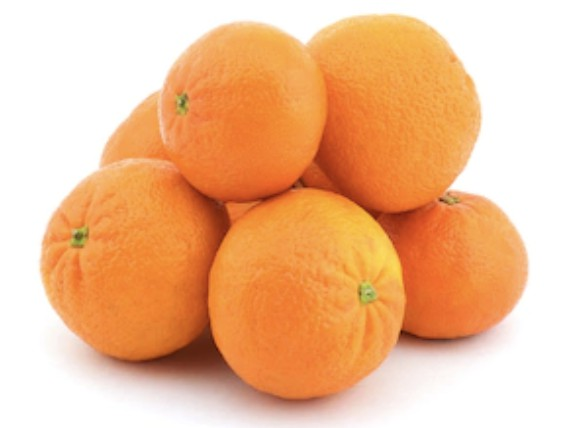fresh_orange: (208, 185, 406, 404), (41, 158, 234, 361), (305, 12, 482, 213), (157, 21, 329, 203), (376, 187, 532, 342)
